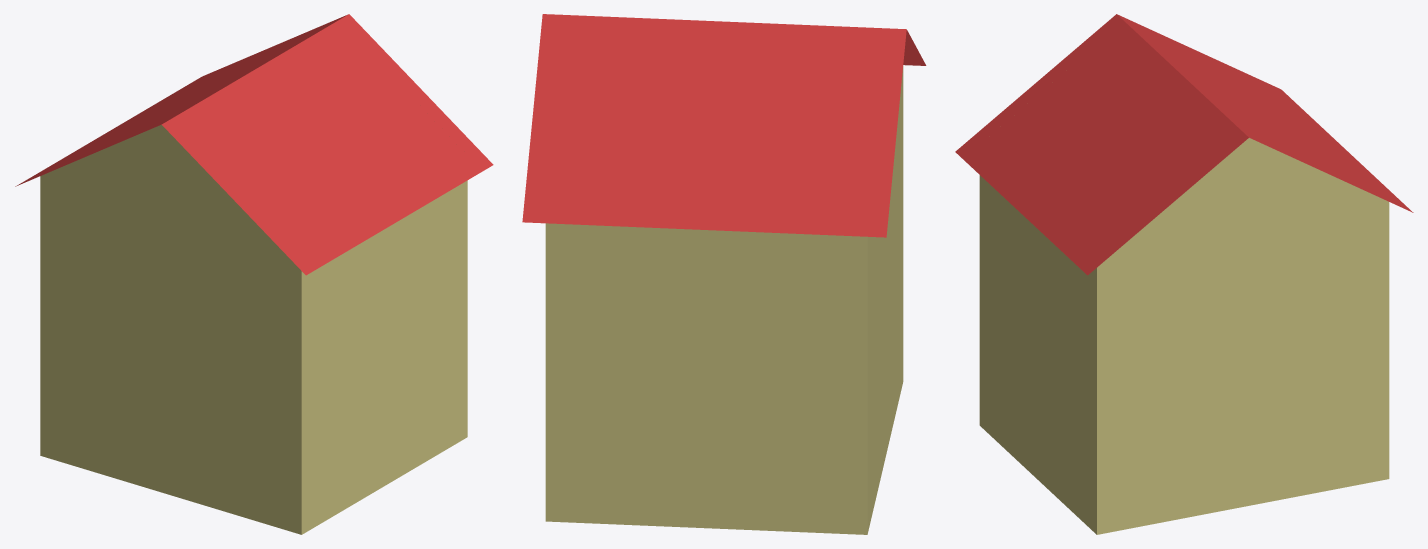
3 views of the same model, side by side, from view 1: azimuth 30°, elevation 25°; view 2: azimuth 150°, elevation 25°; view 3: azimuth 270°, elevation 25° (orthographic). The views are drawn at different scales.
Bounding box in the file's own units: 11.83 × 12.32 × 11.16.
